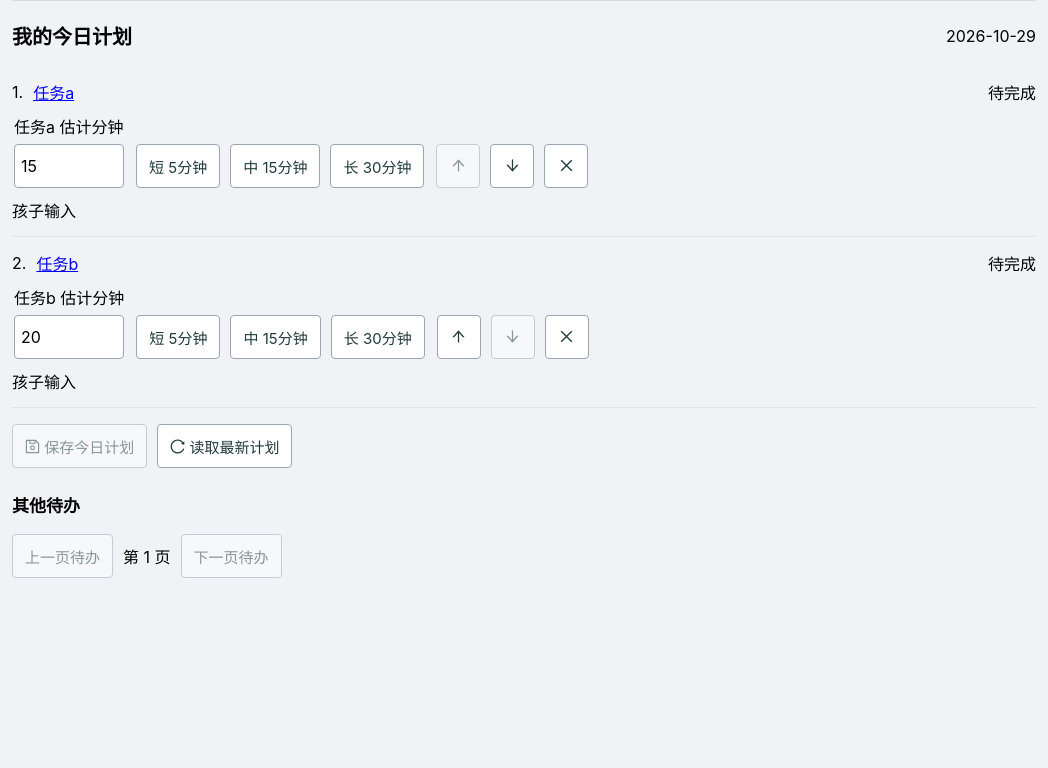
it: same sanitized empty value can become a deliberate clear, while removing another invalid item clears only that item
This screenshot has width=1048, height=768.
Clear the number field labelled "任务a 估计分钟" at (69, 166), box [14, 144, 124, 188]
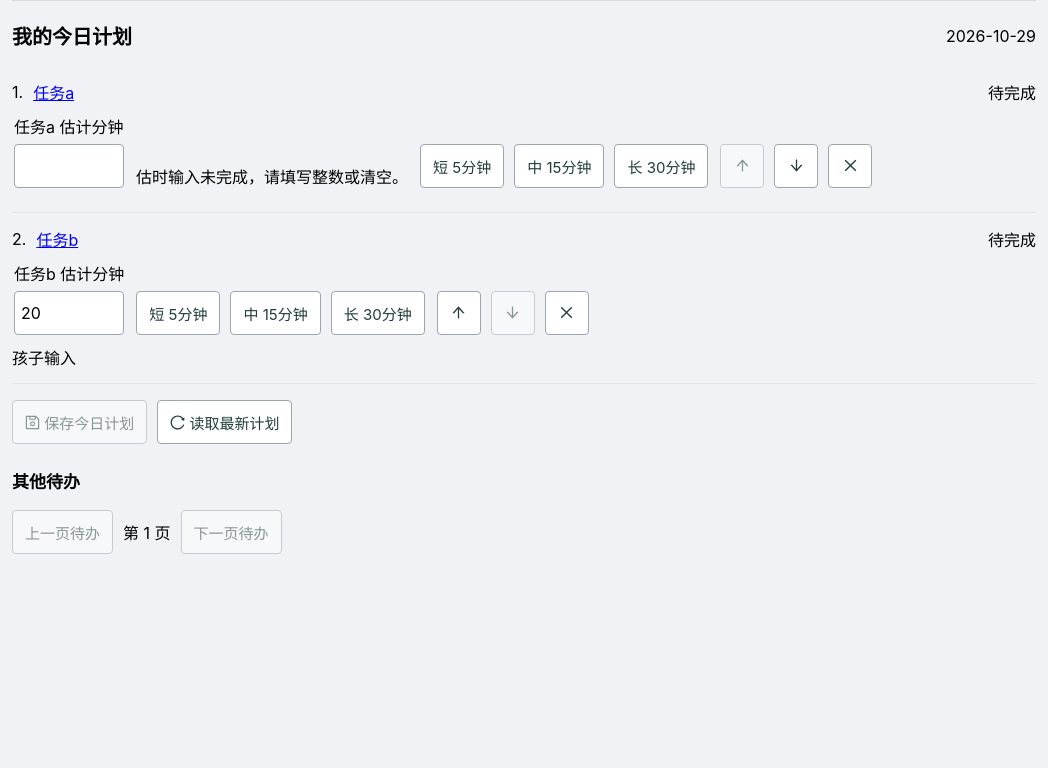
Clear the number field labelled "任务b 估计分钟" at (69, 313), box [14, 291, 124, 335]
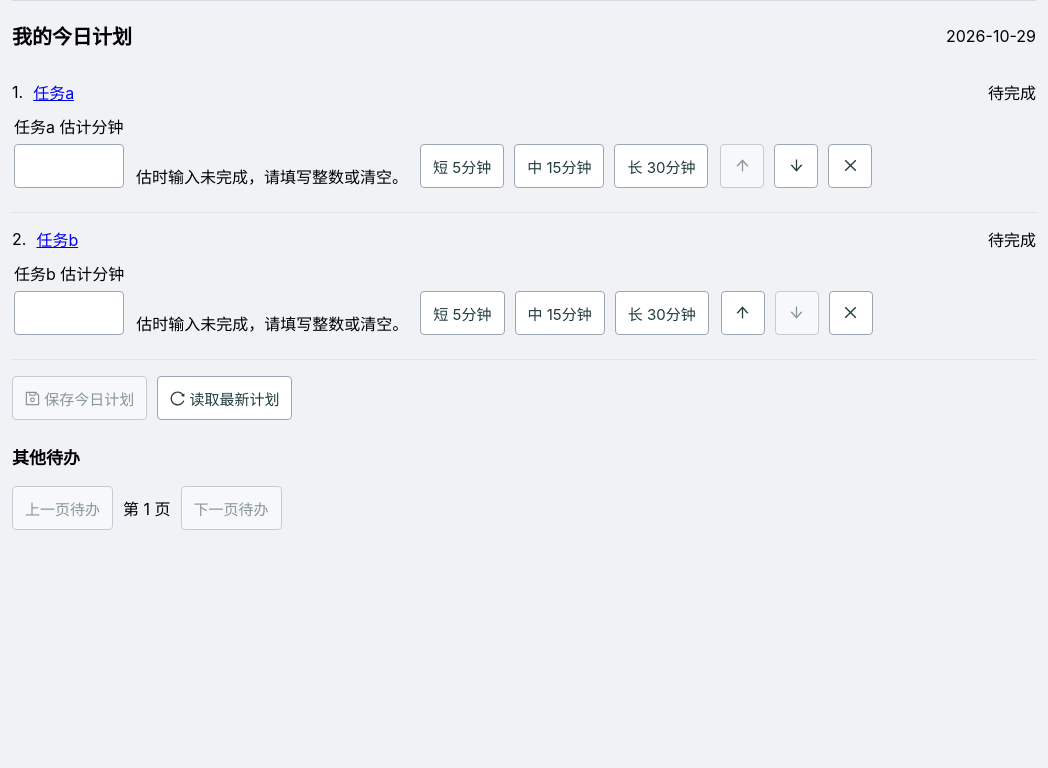
Clear the number field labelled "任务a 估计分钟" at (69, 166), box [14, 144, 124, 188]
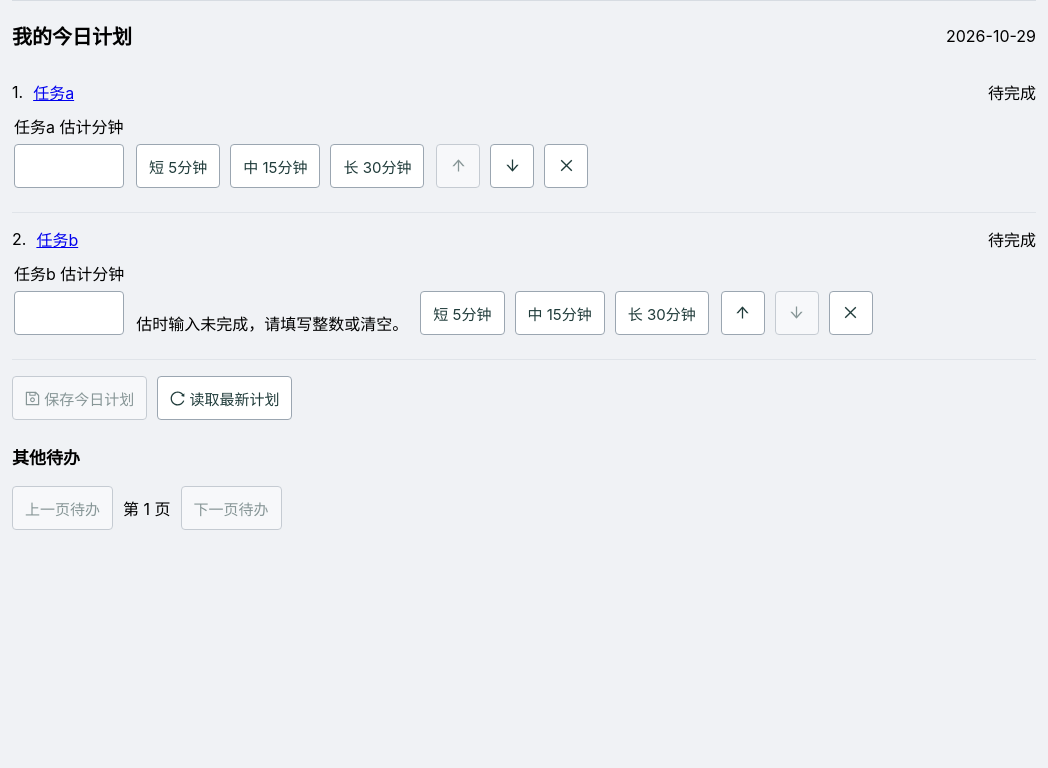
Expected: the button "保存今日计划" is disabled, [12, 376, 147, 420]
Click the button named "移出今日计划 任务b" at (851, 313), box [829, 291, 873, 335]
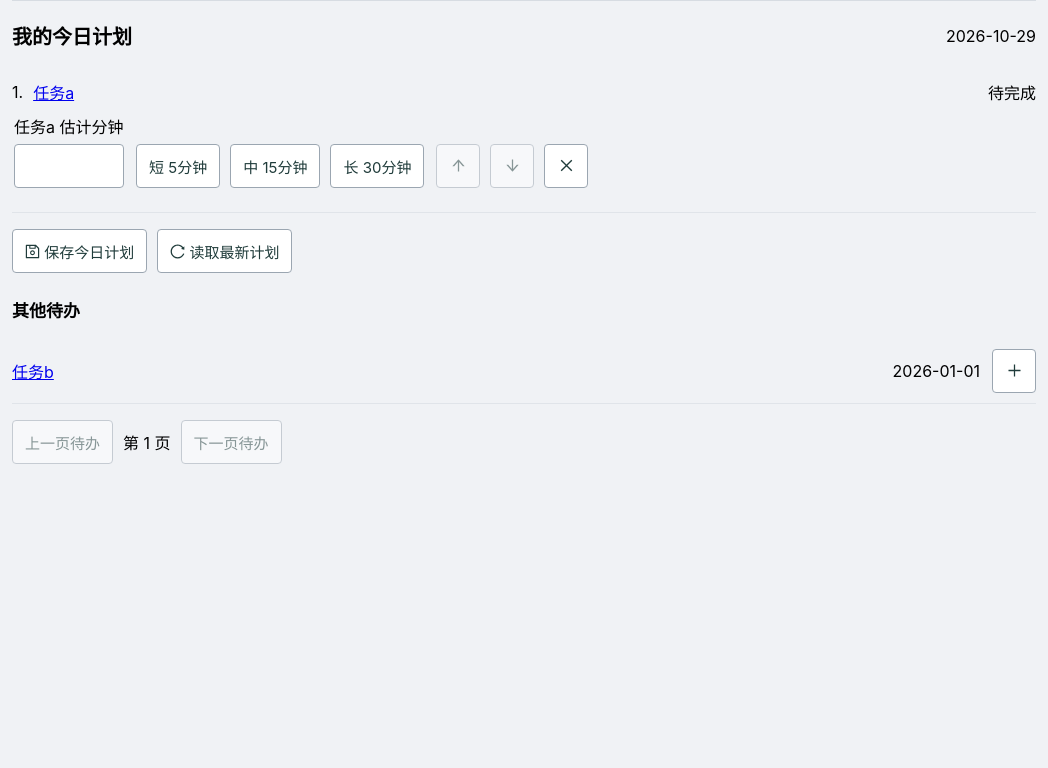
Click the button "保存今日计划" at (80, 251), box [12, 229, 147, 273]
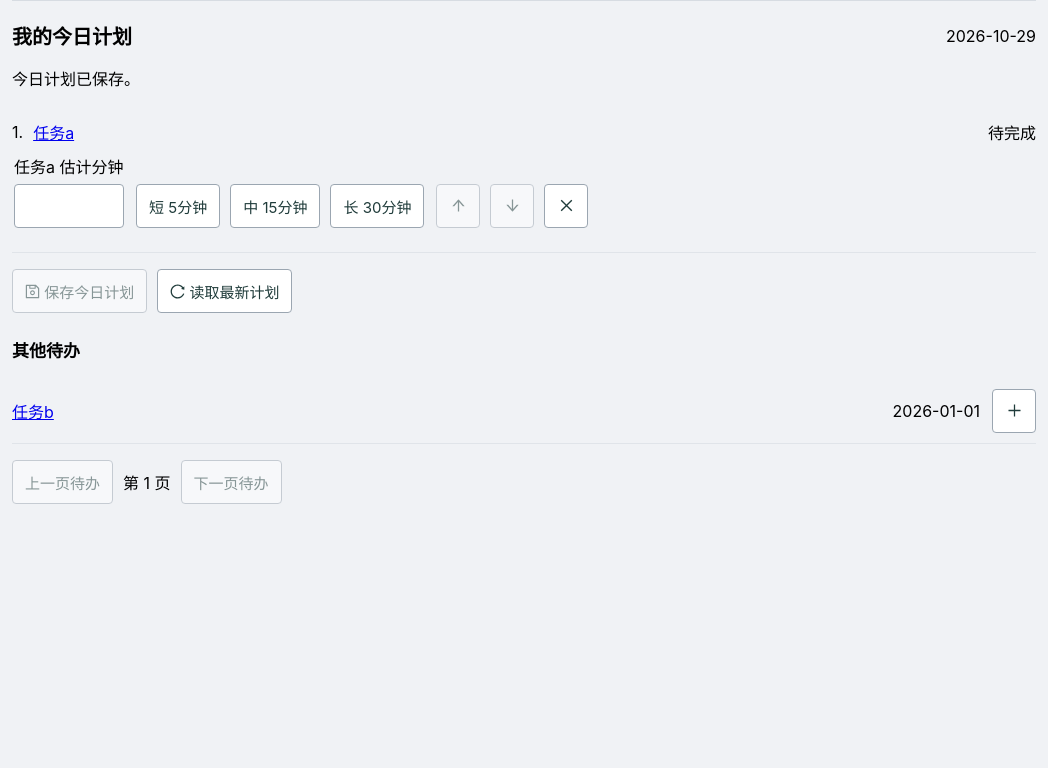
Result: the text "今日计划已保存。" is shown at [12, 69, 140, 89]
